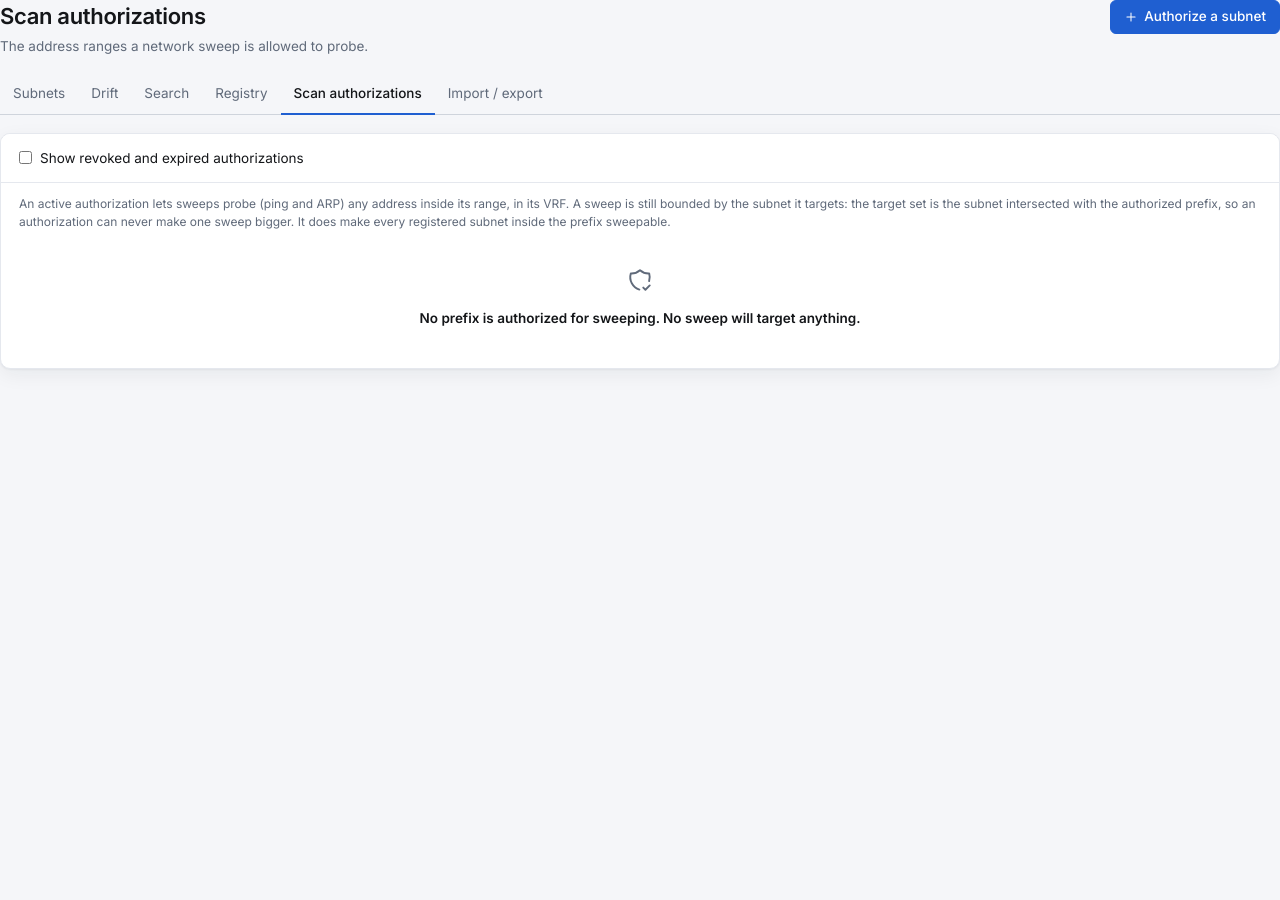
Test: authorising a registered subnet › fills the prefix from a picked registered subnet
Click the button "Authorize a subnet" at (1195, 17), box [1110, 0, 1279, 34]
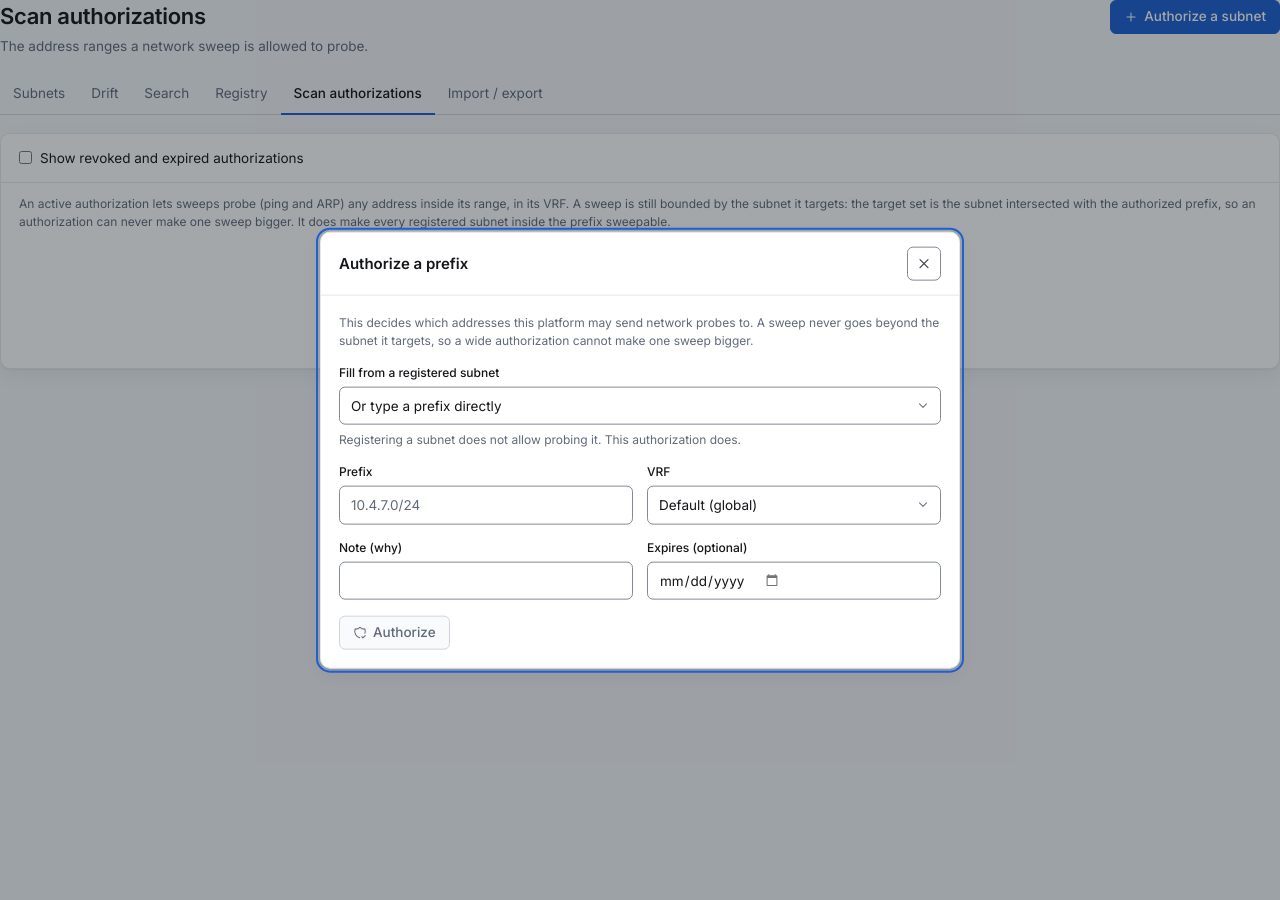
Select "10.4.7.0/24 (Core)" in the dropdown labelled "Fill from a registered subnet" at (640, 406), box [339, 387, 941, 425]
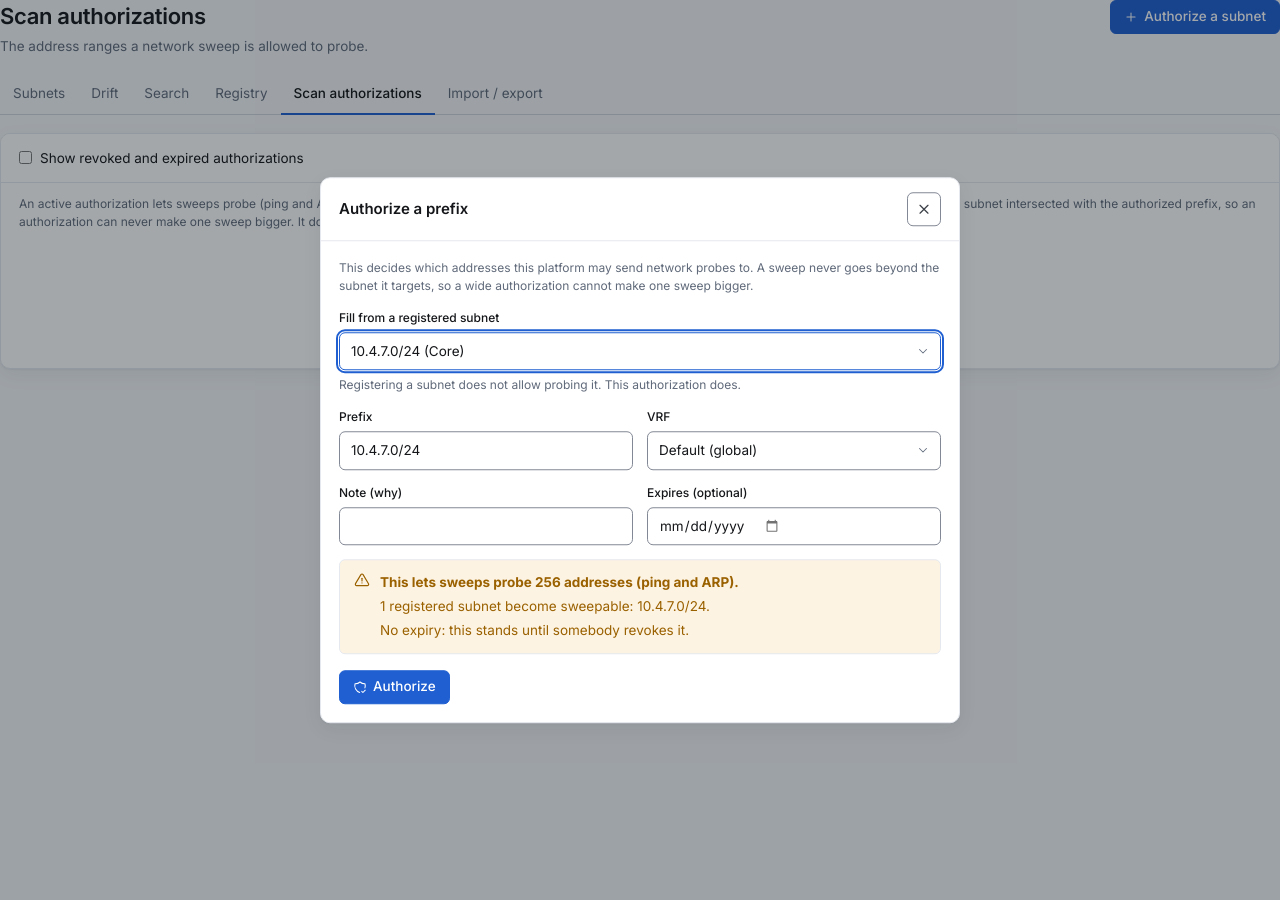
Check: the field with placeholder "10.4.7.0/24" holds "10.4.7.0/24", box [339, 432, 633, 470]
Check: the text "This lets sweeps probe 256 addresses (ping and ARP)." is shown, box [380, 574, 739, 590]
